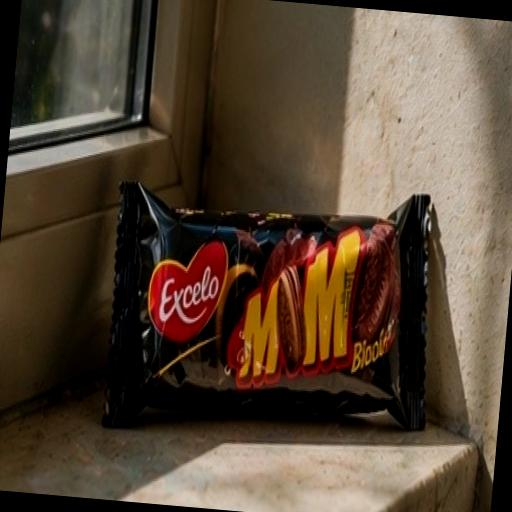MOMO: (68, 108, 494, 480)
